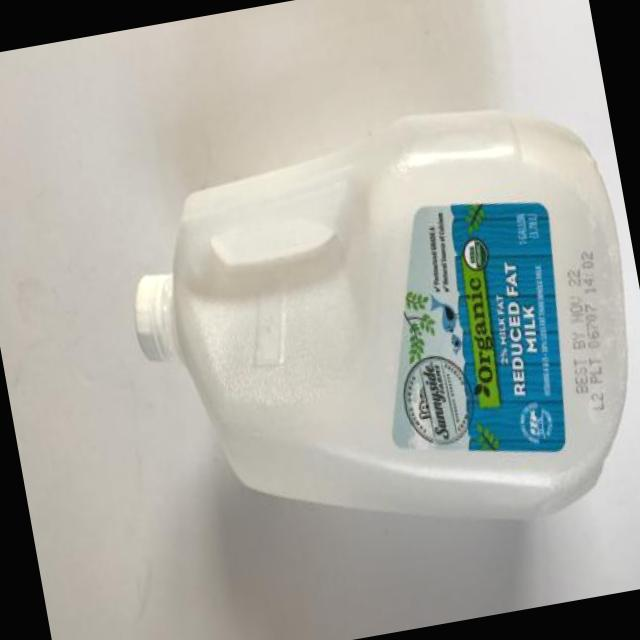Recycle: (103, 76, 640, 580)
